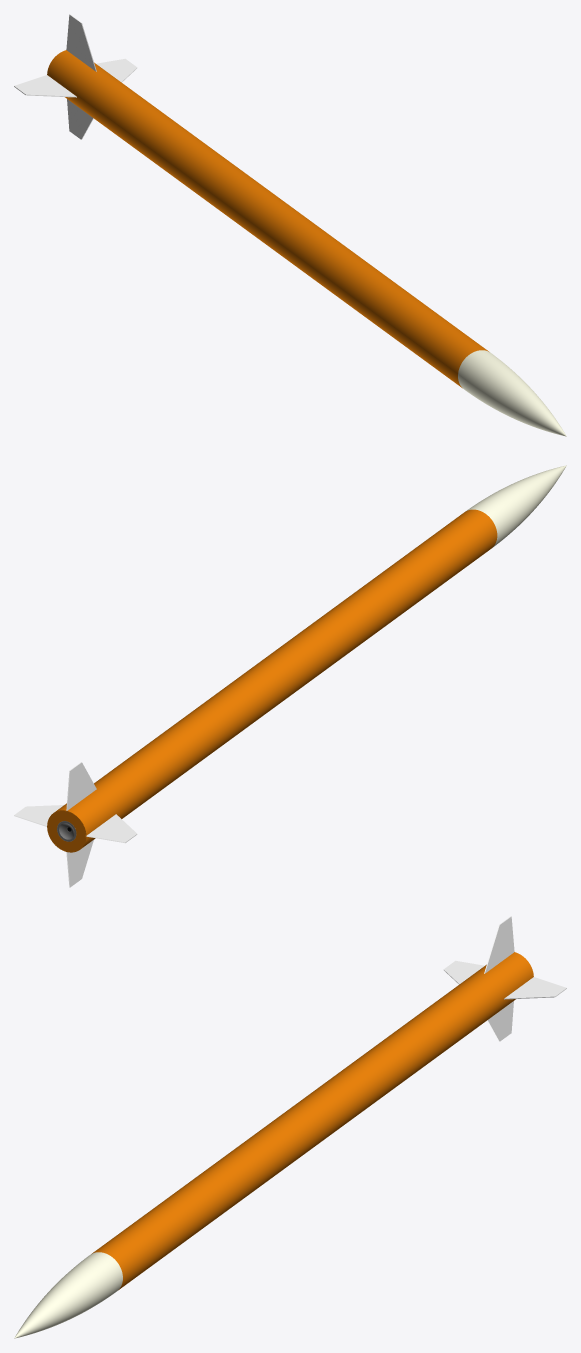
The model's file is robotick_simple_rocket.glb.
The picture shows the model from 3 angles, top to bottom: view 1: azimuth 30°, elevation 25°; view 2: azimuth 150°, elevation 25°; view 3: azimuth 330°, elevation 25°; orthographic projection.
Parts seen in each view (by area): view 1: robotick-rocket-simple; view 2: robotick-rocket-simple; view 3: robotick-rocket-simple.
Part boxes in pixels (x1,y1,x2,y2): robotick-rocket-simple: [14, 14, 566, 436]; robotick-rocket-simple: [14, 465, 566, 887]; robotick-rocket-simple: [14, 916, 566, 1338].
Bounding box in the file's own units: 0.8648 × 0.8648 × 6.72.
7 materials, 3 textured.
